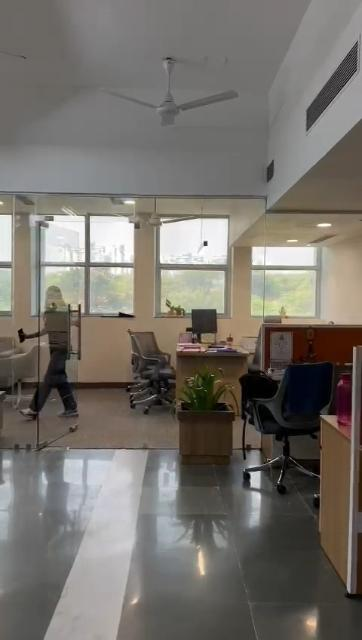floor: (0, 389, 362, 640)
moving-obj: (34, 263, 80, 427)
object: (236, 359, 332, 497), (177, 372, 239, 464), (124, 329, 174, 411), (0, 333, 40, 417), (188, 300, 218, 348), (338, 358, 354, 426)
wall: (328, 243, 362, 319), (84, 326, 128, 384), (234, 214, 254, 336), (136, 230, 154, 332), (14, 220, 30, 330)
